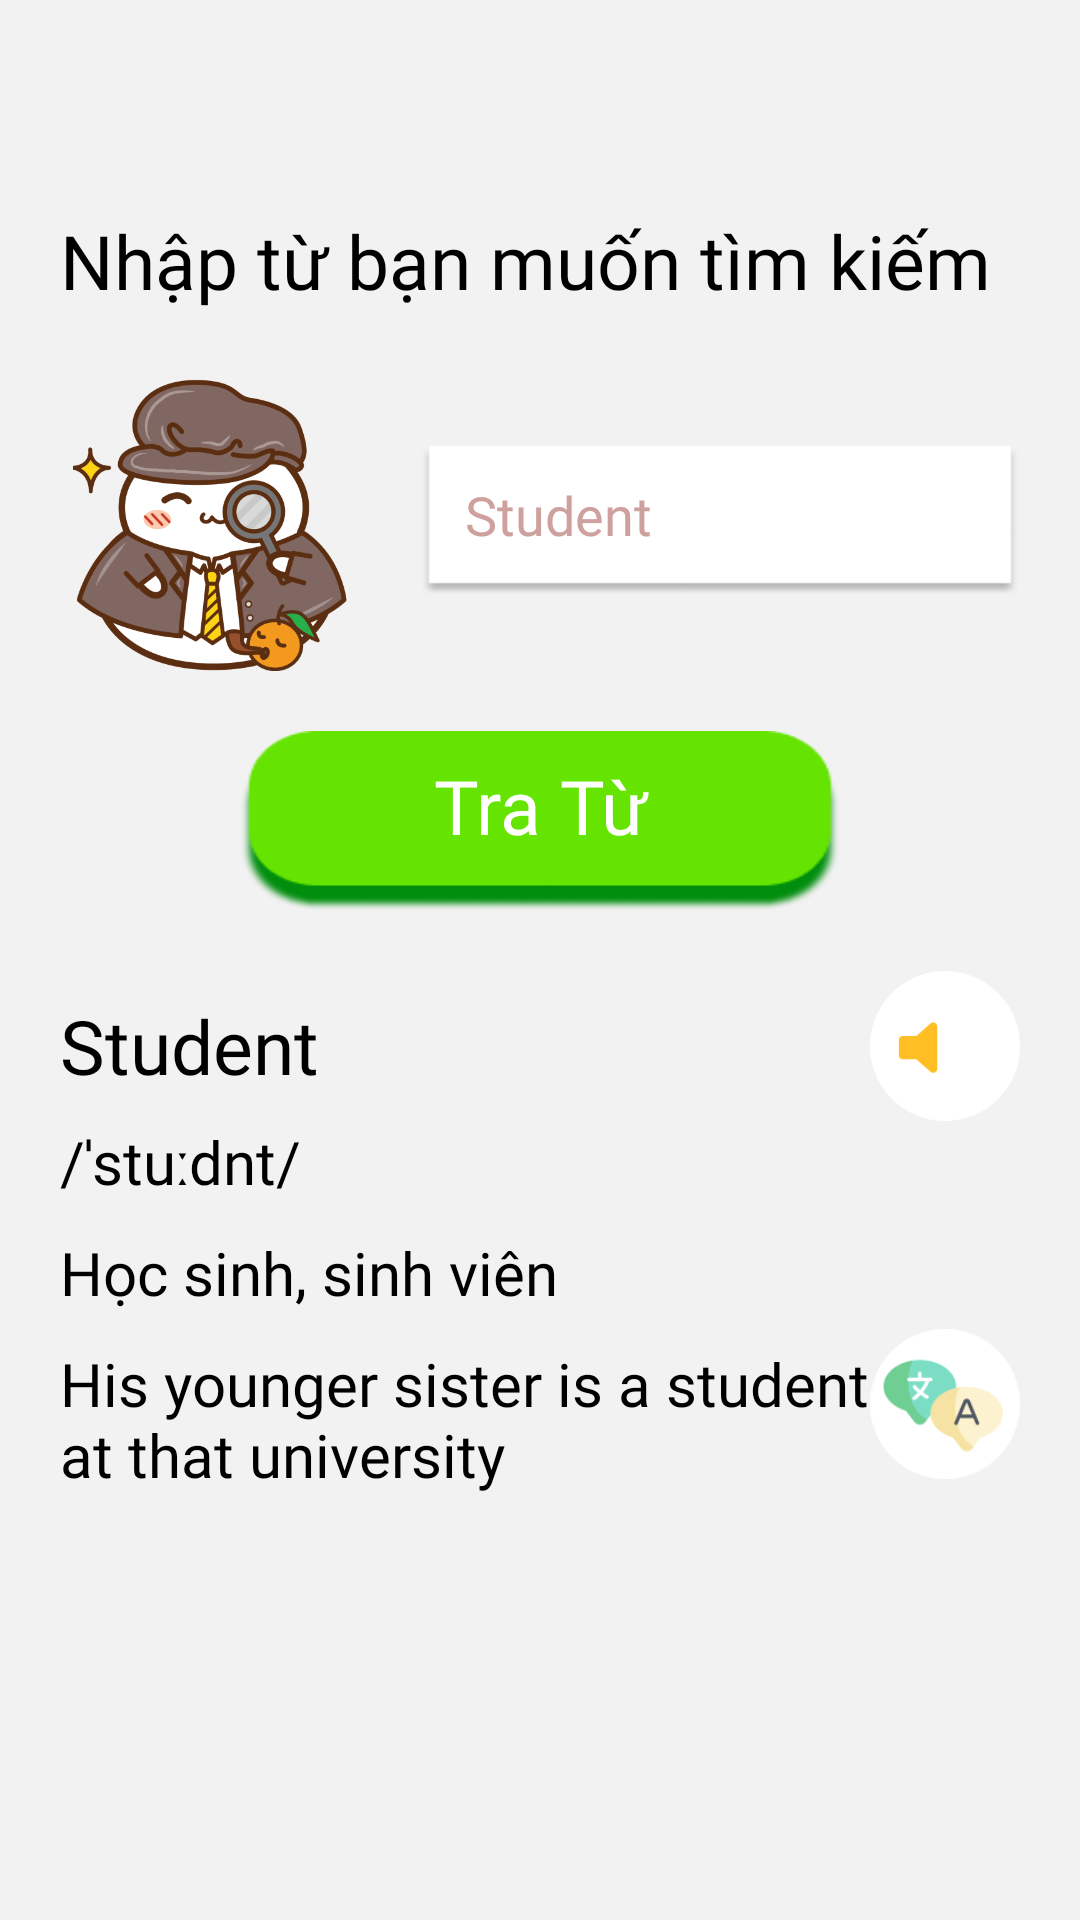

Icon bounding boxes for this 1080*1920 phone screenshot, format [x1=x1, y1=y1, x2=x2, y2=y2]:
translate: [x1=883, y1=1360, x2=1003, y2=1452]
